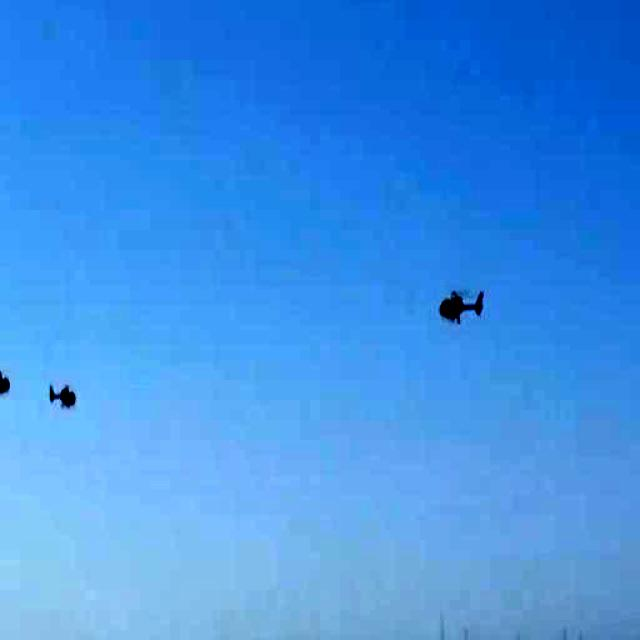drone: (436, 266, 495, 342), (38, 384, 84, 418), (0, 361, 19, 396)
